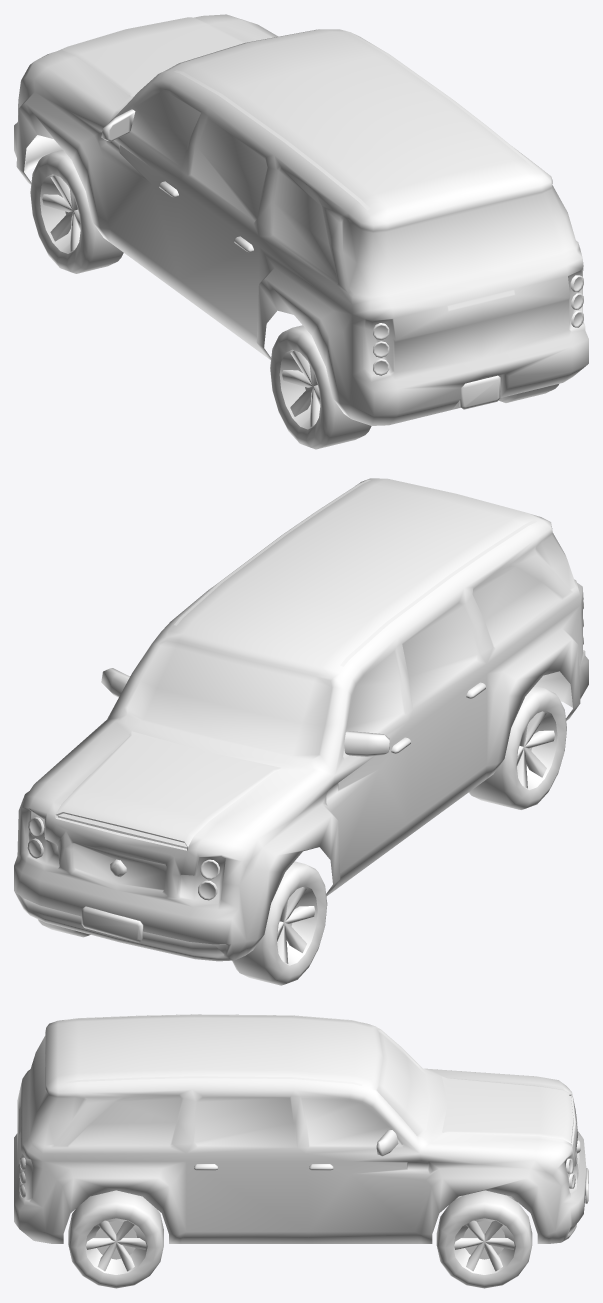
The model's file is Car_02_v1.fbx.
3 renders of one model, top to bottom at view 1: azimuth 30°, elevation 25°; view 2: azimuth 150°, elevation 25°; view 3: azimuth 270°, elevation 25°, orthographic. The views are drawn at different scales.
Visible parts, largest first — view 1: polySurface75, polySurface74, Wheel_18B_R.L.001, Wheel_18B_F.L.001; view 2: polySurface75, polySurface74, Wheel_18B_R.L.001, Wheel_18B_F.L.001; view 3: polySurface75, Wheel_18B_R.R.001, Wheel_18B_F.R.001, polySurface74.
Part boxes in pixels (x1=…): polySurface75: x1=14, y1=14, x2=588, y2=425; polySurface74: x1=58, y1=17, x2=244, y2=96; Wheel_18B_R.L.001: x1=270, y1=325, x2=371, y2=449; Wheel_18B_F.L.001: x1=30, y1=150, x2=123, y2=273; polySurface75: x1=14, y1=478, x2=588, y2=961; polySurface74: x1=55, y1=731, x2=280, y2=850; Wheel_18B_R.L.001: x1=469, y1=686, x2=566, y2=809; Wheel_18B_F.L.001: x1=232, y1=861, x2=327, y2=985; polySurface75: x1=14, y1=1014, x2=588, y2=1243; Wheel_18B_R.R.001: x1=68, y1=1190, x2=163, y2=1288; Wheel_18B_F.R.001: x1=436, y1=1190, x2=532, y2=1288; polySurface74: x1=442, y1=1076, x2=575, y2=1146.
Bounding box in the file's own units: 406 × 357 × 917.
Materials: 1 (1 with a texture image).
